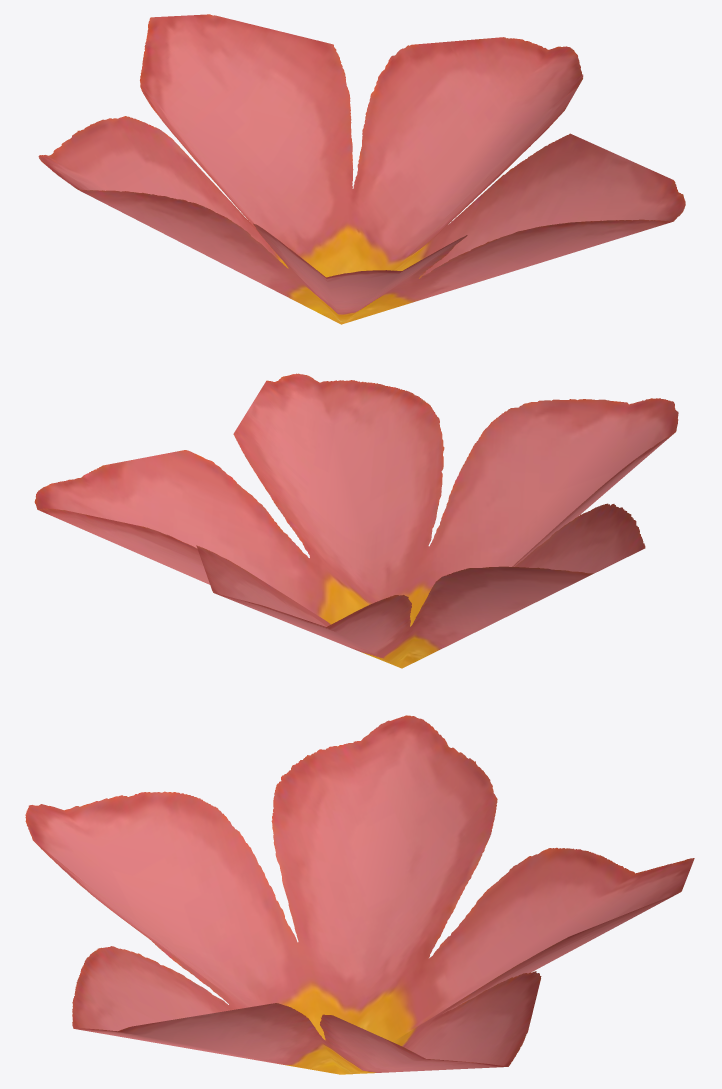
Rendered from Petal_5.glb.
The picture shows the model from 3 angles, top to bottom: view 1: azimuth 30°, elevation 25°; view 2: azimuth 150°, elevation 25°; view 3: azimuth 270°, elevation 25°; orthographic projection. The views are drawn at different scales.
Visible parts, largest first — view 1: Petal_5; view 2: Petal_5; view 3: Petal_5.
Part boxes in pixels (x1,y1,x2,y2): Petal_5: [38, 14, 685, 324]; Petal_5: [34, 373, 678, 668]; Petal_5: [25, 715, 694, 1074].
Bounding box in the file's own units: 0.834 × 0.2887 × 0.7952.
1 material, 1 textured.
